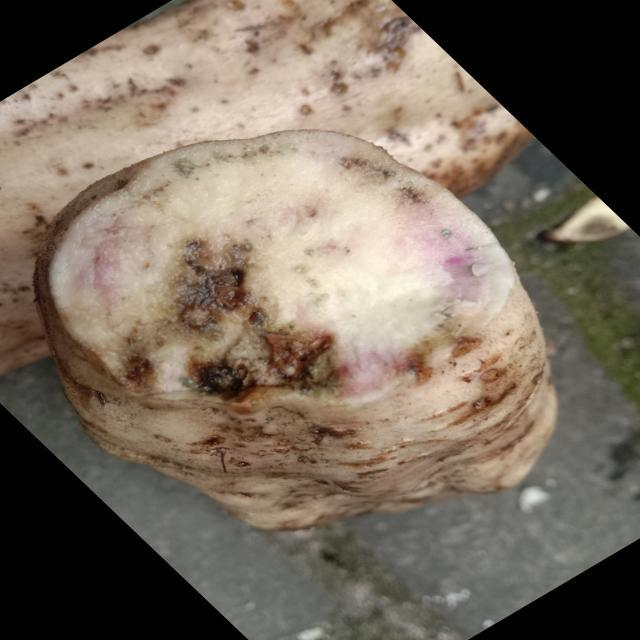Sick Sweet Potato_Tuber Rot: (42, 130, 517, 411)
